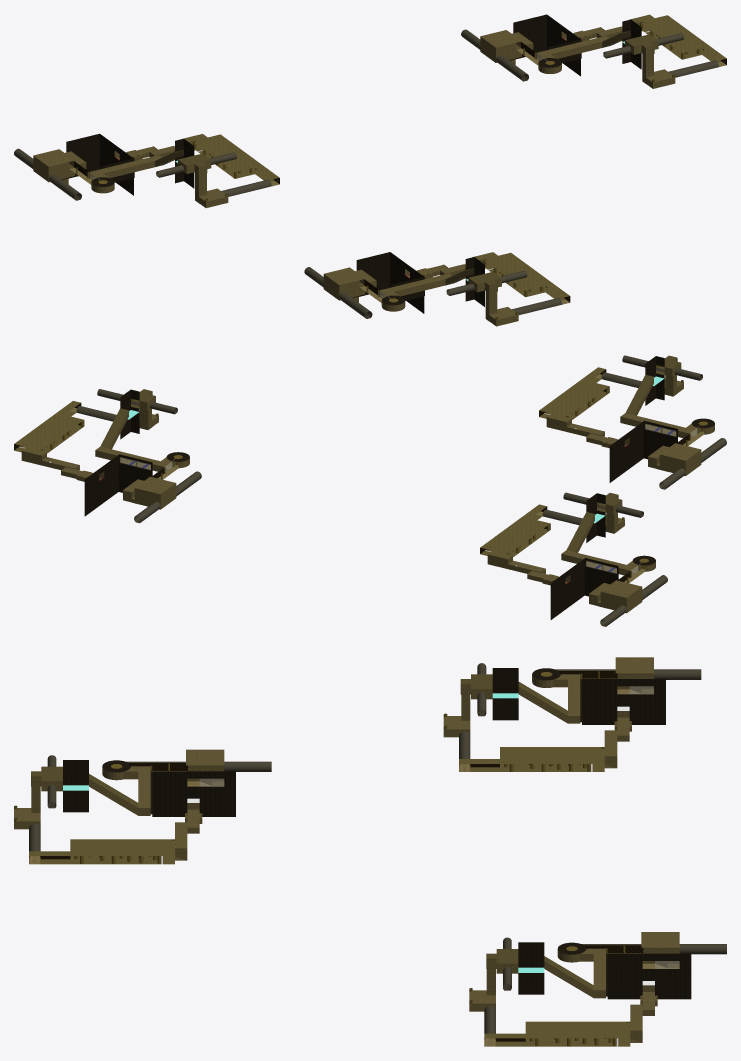
The model's file is bigkcl.obj.
3 views of the same model, one above another, from view 1: azimuth 30°, elevation 25°; view 2: azimuth 150°, elevation 25°; view 3: azimuth 270°, elevation 25° (orthographic). The views are drawn at different scales.
Parts seen in each view (by area): view 1: TRACK-SKP--Wall_sandstonev2, TRACK-SKP--Wall_rockgara1, TRACK-SKP--Road_floorchecker, TRACK-SKP--Wall_tunnel, TRACK-SKP--Road_floorcheckerbr; view 2: TRACK-SKP--Wall_sandstonev2, TRACK-SKP--Wall_rockgara1, TRACK-SKP--Road_floorchecker, TRACK-SKP--Wall_tunnel, TRACK-SKP--Road_floorcheckerbr, TRACK-SKP--Road_sandpath, TRACK-SKP--Wall_glass; view 3: TRACK-SKP--Wall_rockgara1, TRACK-SKP--Wall_sandstonev2, TRACK-SKP--Road_floorchecker, TRACK-SKP--Wall_tunnel, TRACK-SKP--Road_floorcheckerbr, TRACK-SKP--Wall_darksandstone, TRACK-SKP--Road_sandpath.
Part boxes in pixels (x1,y1,x2,y2): TRACK-SKP--Wall_sandstonev2: (33, 22, 675, 326); TRACK-SKP--Wall_rockgara1: (66, 14, 641, 313); TRACK-SKP--Road_floorchecker: (89, 14, 726, 300); TRACK-SKP--Wall_tunnel: (14, 29, 718, 318); TRACK-SKP--Road_floorcheckerbr: (63, 30, 657, 297); TRACK-SKP--Wall_sandstonev2: (21, 358, 714, 613); TRACK-SKP--Wall_rockgara1: (84, 356, 714, 619); TRACK-SKP--Road_floorchecker: (14, 367, 694, 575); TRACK-SKP--Wall_tunnel: (76, 355, 726, 625); TRACK-SKP--Road_floorcheckerbr: (100, 355, 680, 551); TRACK-SKP--Road_sandpath: (70, 374, 703, 583); TRACK-SKP--Wall_glass: (120, 423, 697, 575); TRACK-SKP--Wall_rockgara1: (63, 668, 691, 999); TRACK-SKP--Wall_sandstonev2: (14, 657, 679, 1042); TRACK-SKP--Road_floorchecker: (29, 689, 679, 1046); TRACK-SKP--Wall_tunnel: (29, 663, 726, 1033); TRACK-SKP--Road_floorcheckerbr: (31, 674, 642, 990); TRACK-SKP--Wall_darksandstone: (29, 671, 643, 1041); TRACK-SKP--Road_sandpath: (29, 678, 679, 1046).
Bounding box in the file's own units: 178128 × 24193 × 143212.
